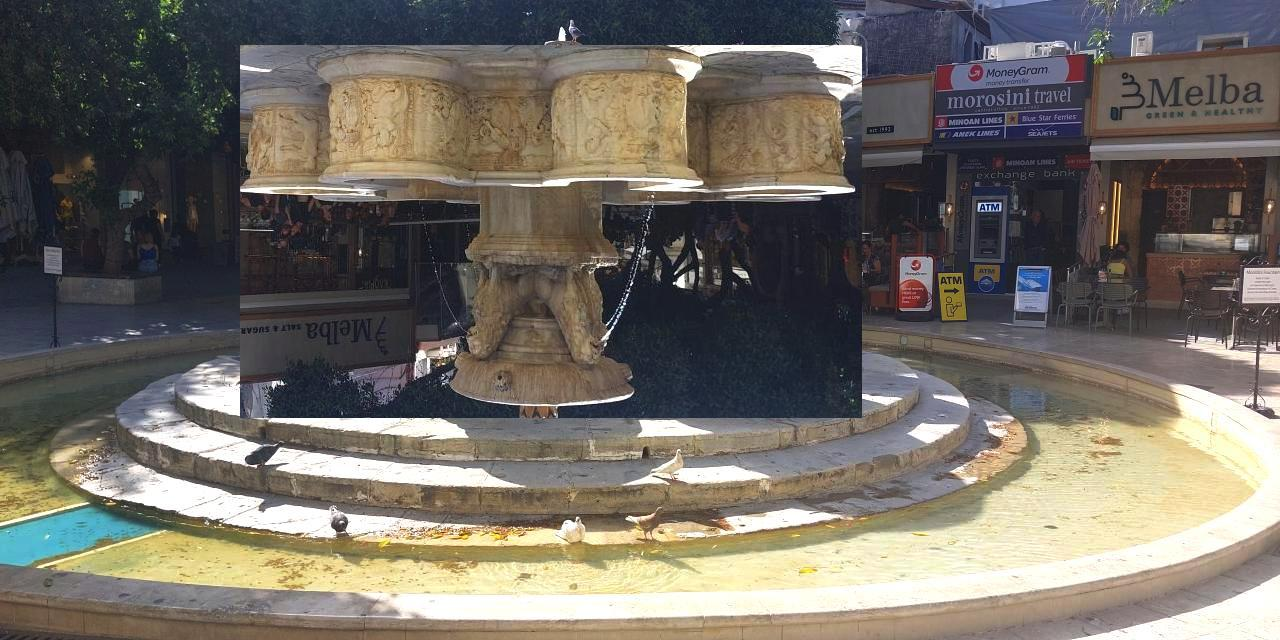Liontaria: (241, 46, 863, 419)
